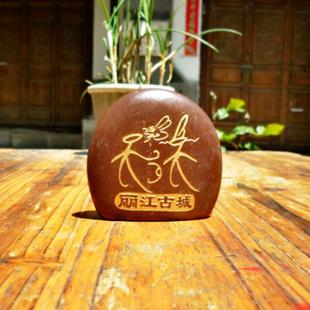chinese: (112, 188, 198, 213)
naxi: (115, 118, 198, 195)
